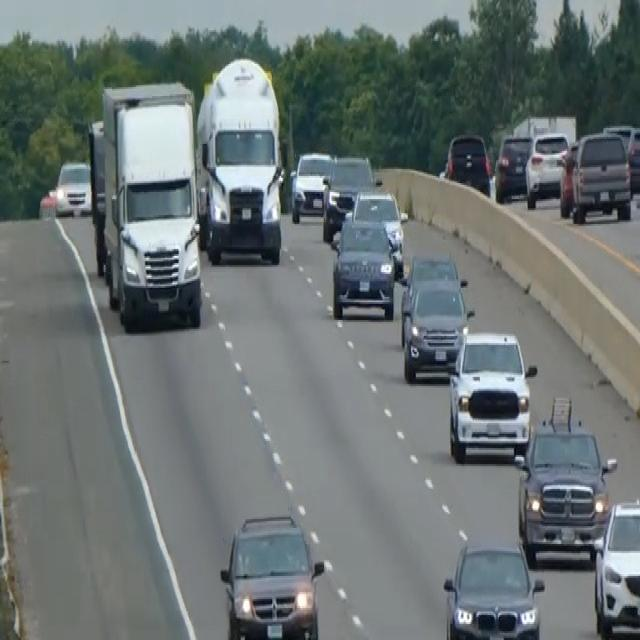car: (514, 395, 616, 565), (219, 510, 325, 638), (447, 327, 536, 464), (442, 537, 545, 638), (400, 274, 473, 382), (330, 215, 395, 320), (592, 496, 639, 638), (569, 128, 631, 222), (350, 185, 407, 274), (321, 153, 376, 240), (400, 250, 461, 322), (524, 128, 570, 208), (290, 148, 333, 222), (445, 130, 491, 197), (603, 121, 639, 197), (494, 132, 532, 202), (54, 158, 92, 217), (557, 139, 580, 217), (37, 188, 56, 220)
lorry: (98, 78, 202, 329), (196, 55, 285, 267)
